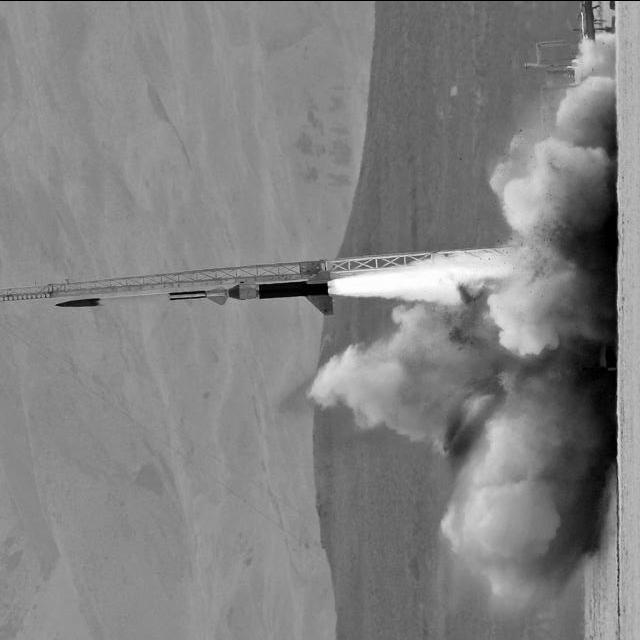missile: (53, 278, 333, 314), (50, 290, 176, 312)
